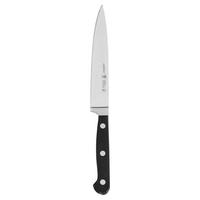knife: (85, 1, 115, 194)
